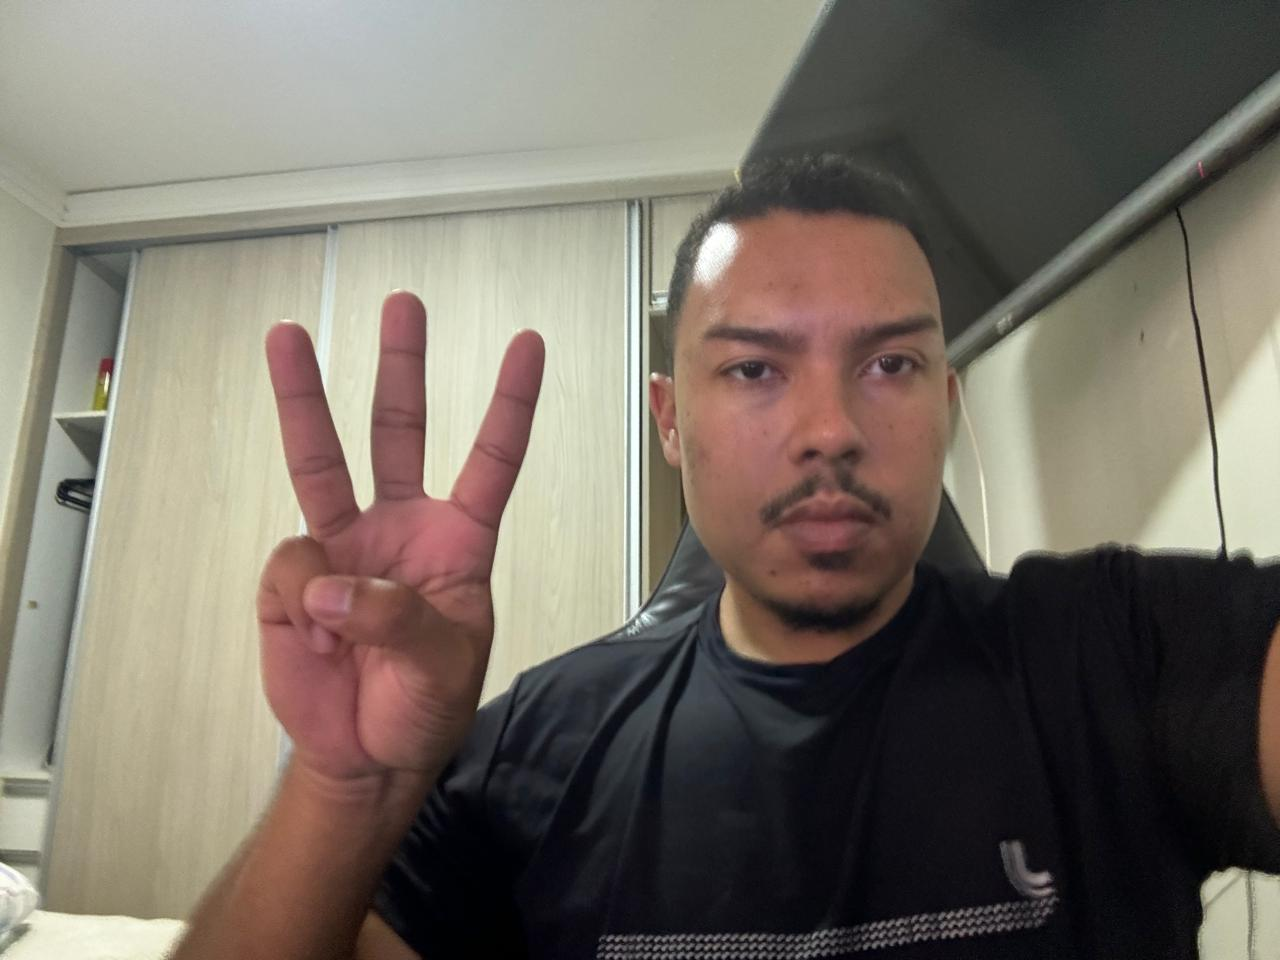w: (235, 283, 552, 785)
